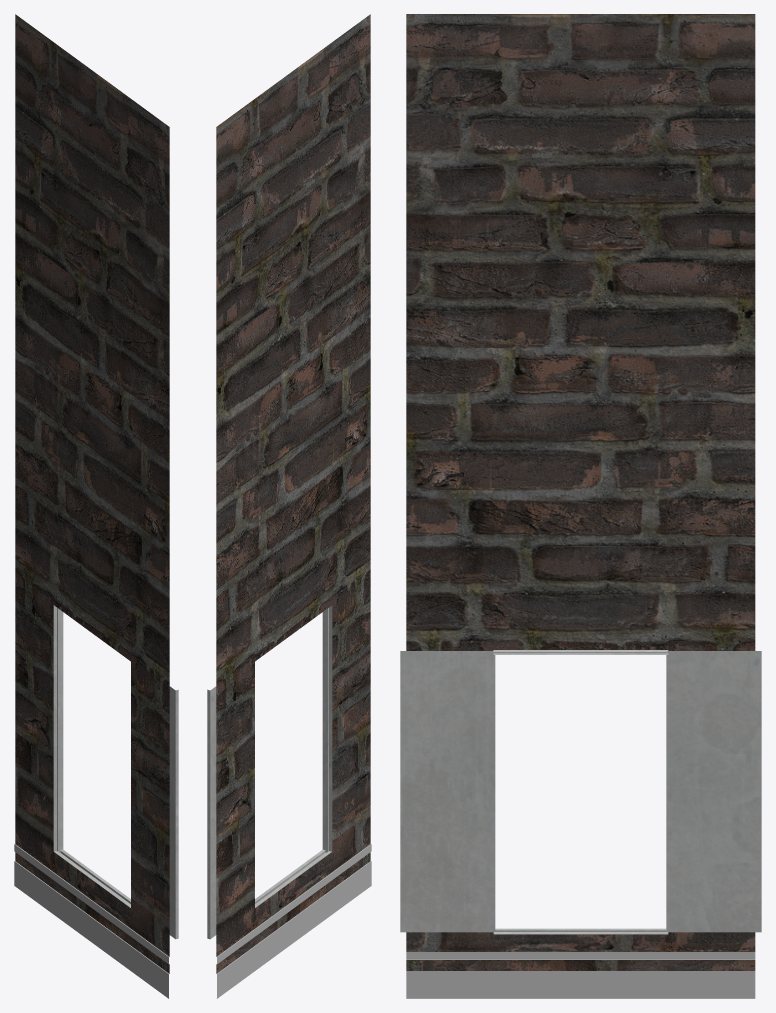
The model's file is MuroCaida1.fbx.
3 views of the same model, side by side, from view 1: azimuth 30°, elevation 25°; view 2: azimuth 150°, elevation 25°; view 3: azimuth 270°, elevation 25° (orthographic). The views are drawn at different scales.
Visible parts, largest first — view 1: Exterior2; view 2: Exterior2; view 3: Exterior2.
Part boxes in pixels (x1=…): Exterior2: x1=14, y1=14, x2=178, y2=998; Exterior2: x1=207, y1=14, x2=371, y2=998; Exterior2: x1=400, y1=14, x2=761, y2=998.
Size of the model in its own units: 8.47 by 700 by 233.
